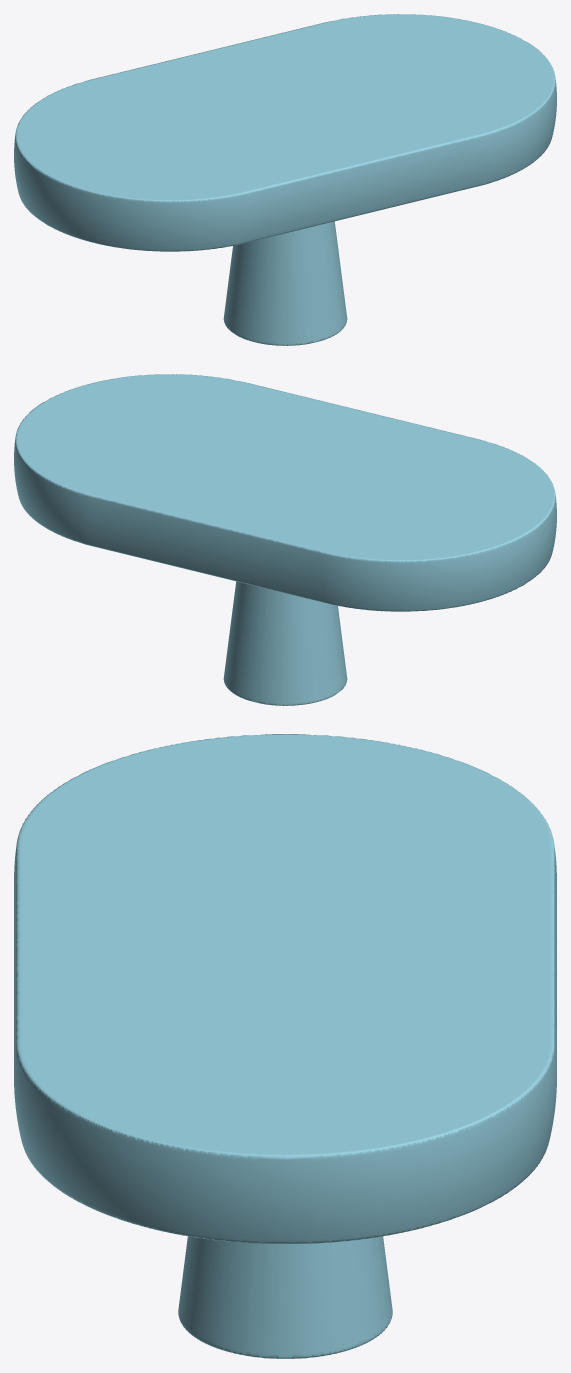
The model's file is ovalTable_compressed.glb.
3 views of the same model, one above another, from view 1: azimuth 30°, elevation 25°; view 2: azimuth 150°, elevation 25°; view 3: azimuth 270°, elevation 25° (orthographic). The views are drawn at different scales.
Bounding box in the file's own units: 216 × 87.85 × 117.
1 material, 1 textured.
